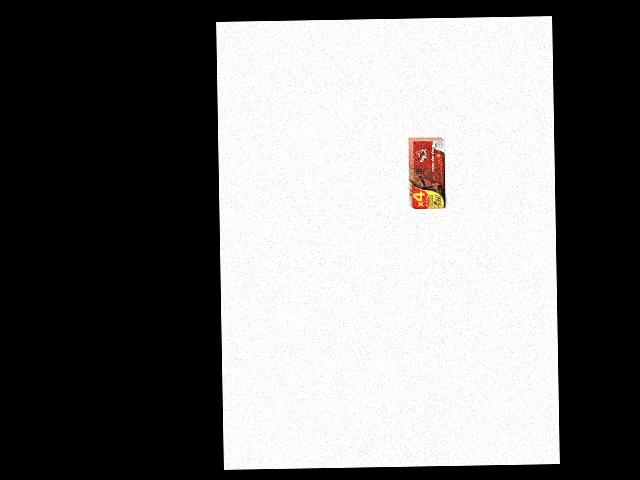chocolate: (408, 138, 447, 210)
